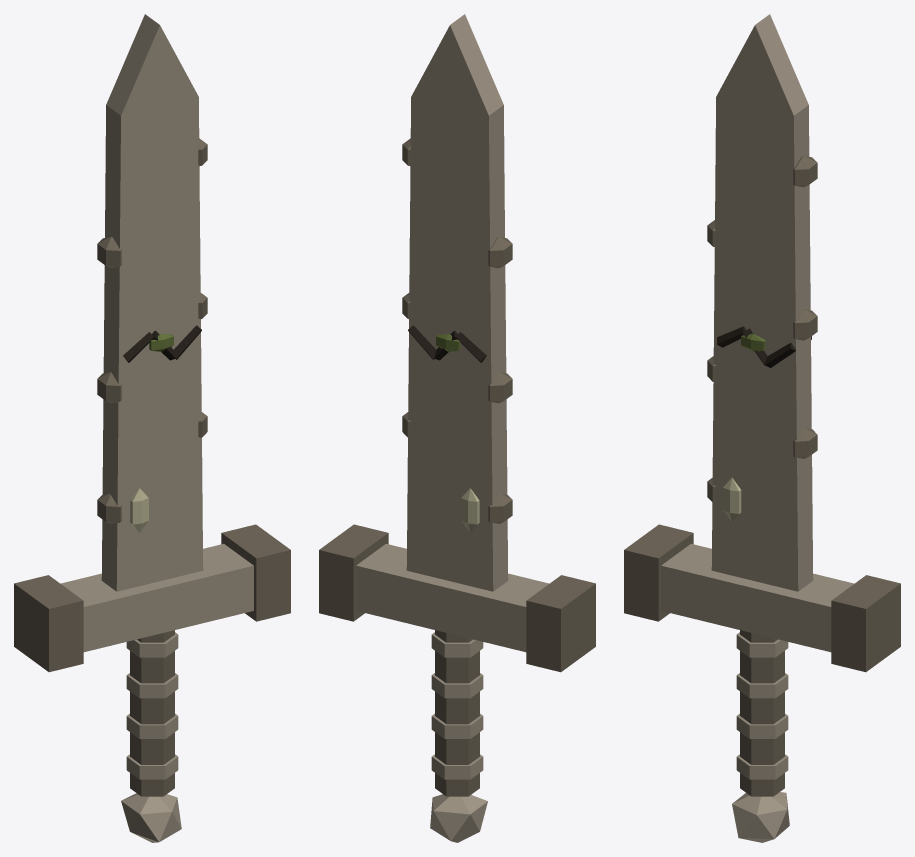
File: petrified_blade.glb
3 renders of one model, left to right at view 1: azimuth 30°, elevation 25°; view 2: azimuth 150°, elevation 25°; view 3: azimuth 330°, elevation 25°, orthographic.
Visible parts, largest first — view 1: petrified_blade; view 2: petrified_blade; view 3: petrified_blade.
Part boxes in pixels (left/top/right/bottom): petrified_blade: left=14, top=14, right=290, bottom=842; petrified_blade: left=319, top=14, right=595, bottom=842; petrified_blade: left=624, top=14, right=900, bottom=842.
Bounding box in the file's own units: 0.56 × 1.82 × 0.14.
